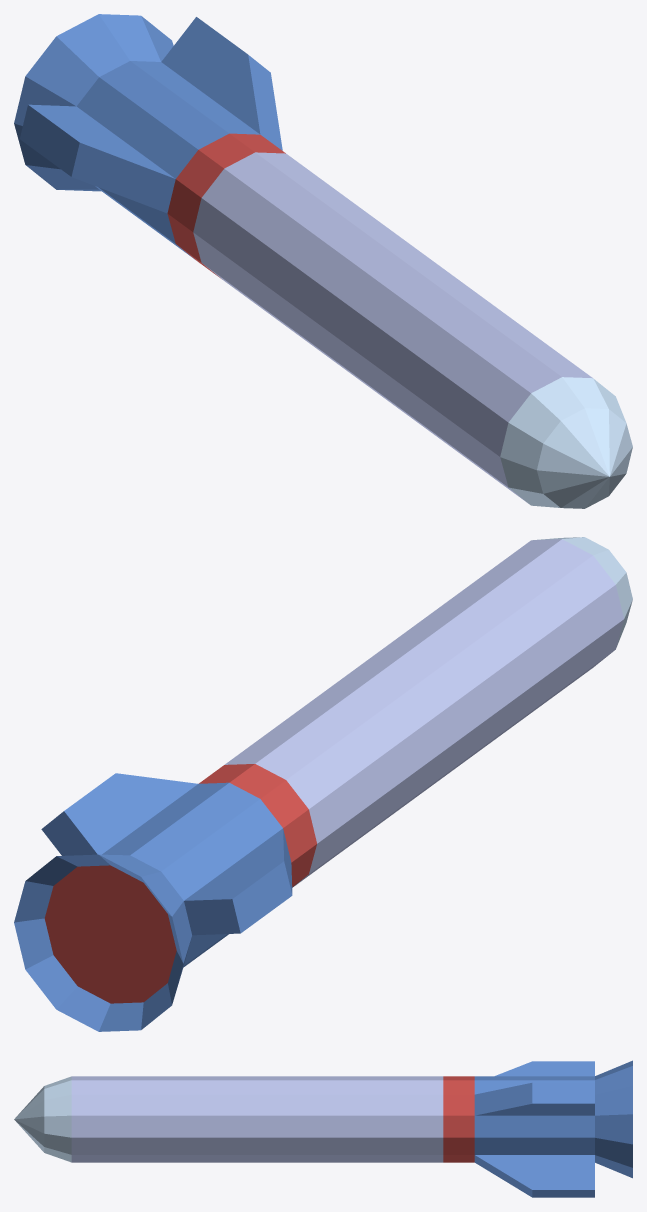
File: Missile.fbx
The picture shows the model from 3 angles, top to bottom: view 1: azimuth 30°, elevation 25°; view 2: azimuth 150°, elevation 25°; view 3: azimuth 270°, elevation 25°; orthographic projection. The views are drawn at different scales.
Parts seen in each view (by area): view 1: Missile; view 2: Missile; view 3: Missile.
Part boxes in pixels (bbox=[...]): Missile: bbox=[14, 14, 632, 508]; Missile: bbox=[14, 537, 632, 1031]; Missile: bbox=[14, 1060, 632, 1197].
Size of the model in its own units: 104 by 92.95 by 457.
1 material, 1 textured.
